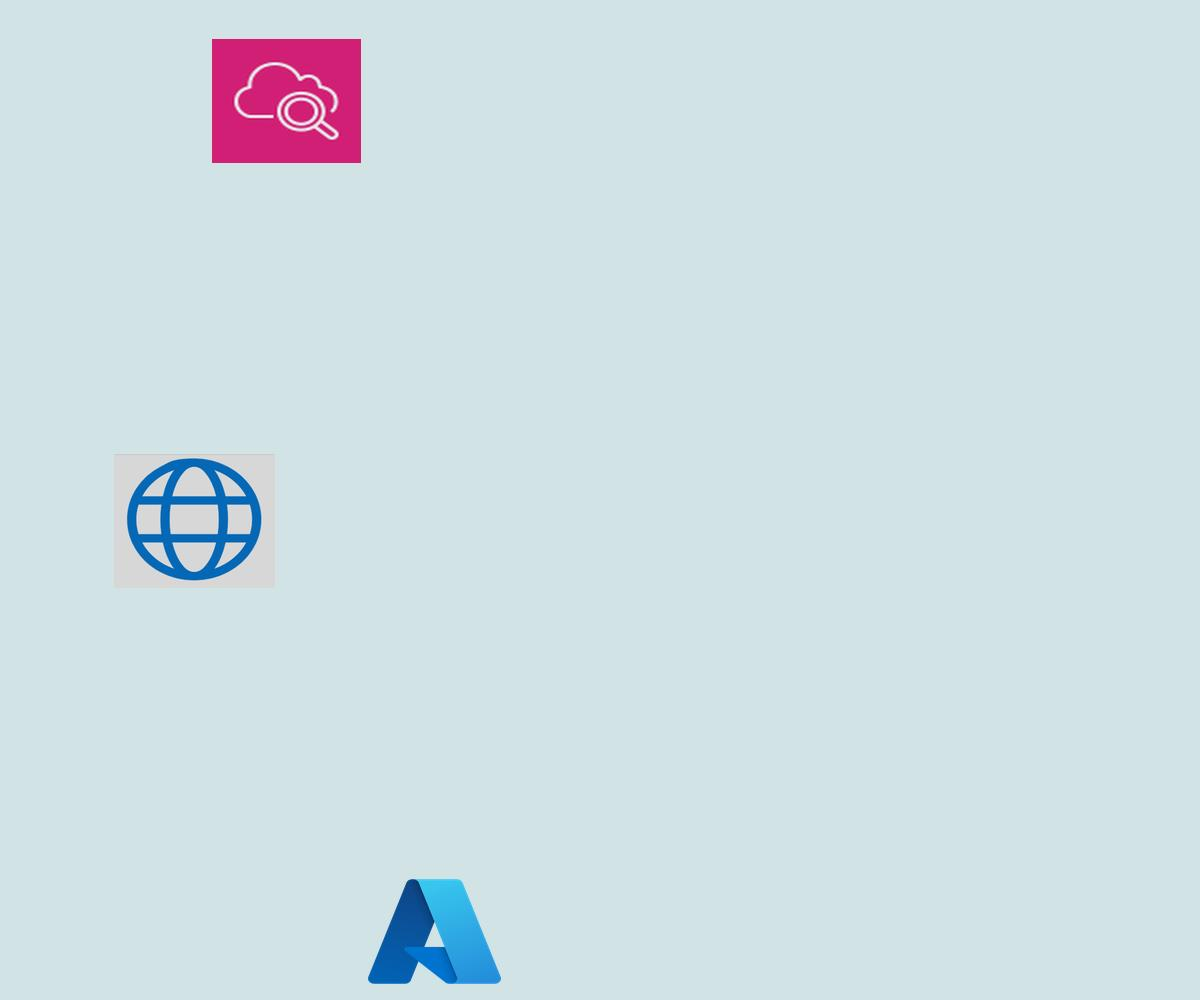AWS-CloudWatch: (212, 39, 361, 163)
Azure_http: (114, 454, 275, 588)
Azure_services: (362, 871, 507, 992)
